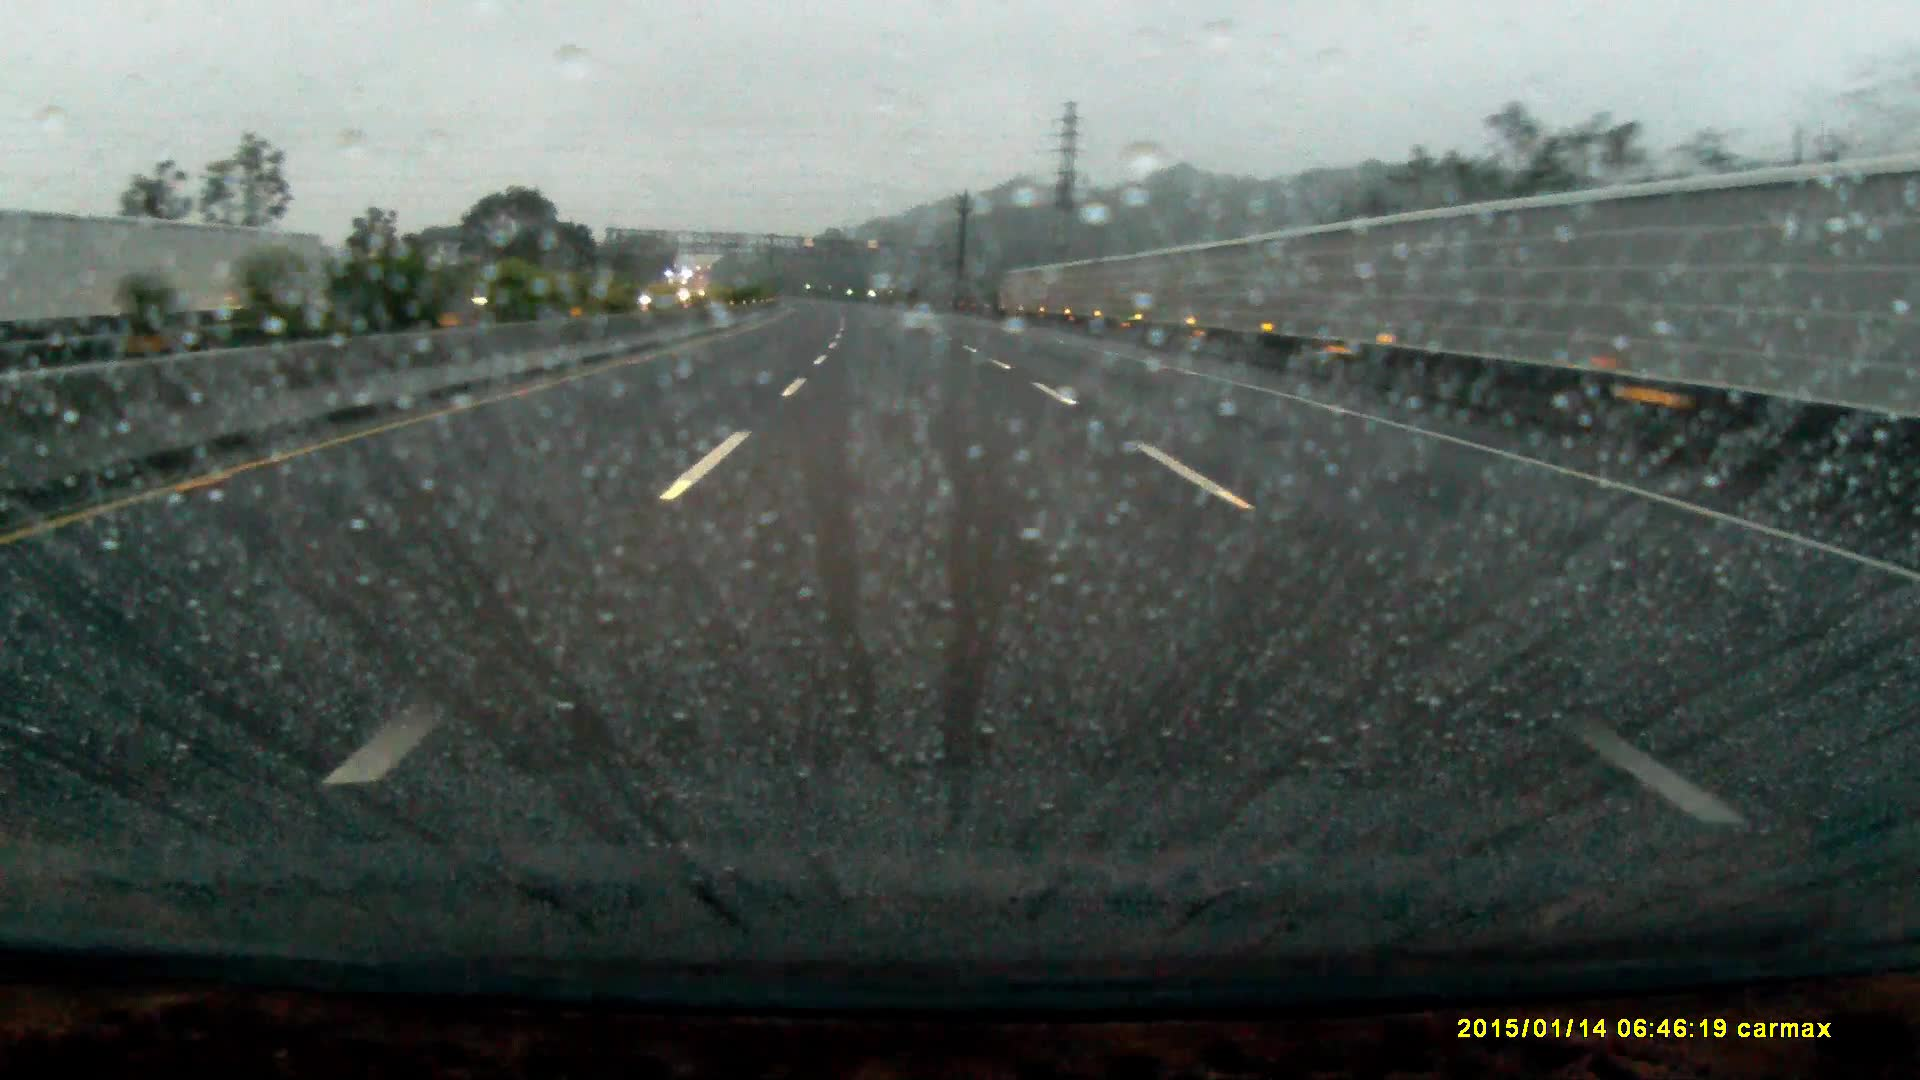vehicle: (662, 269, 699, 302)
